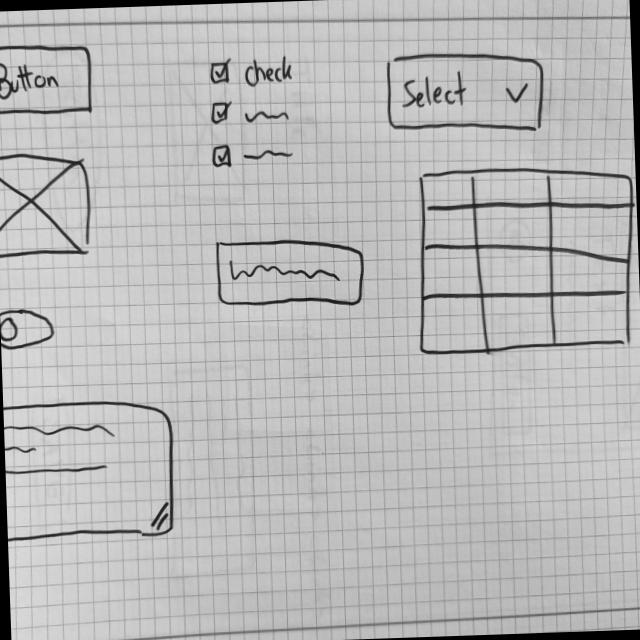button: (1, 40, 97, 119)
checkbox: (207, 94, 295, 131), (209, 53, 295, 89), (209, 139, 296, 172)
image: (1, 147, 97, 262)
input: (214, 233, 369, 314)
select: (385, 46, 548, 138)
table: (413, 161, 640, 358)
textbox: (4, 393, 180, 544)
toggle: (1, 306, 55, 352)
